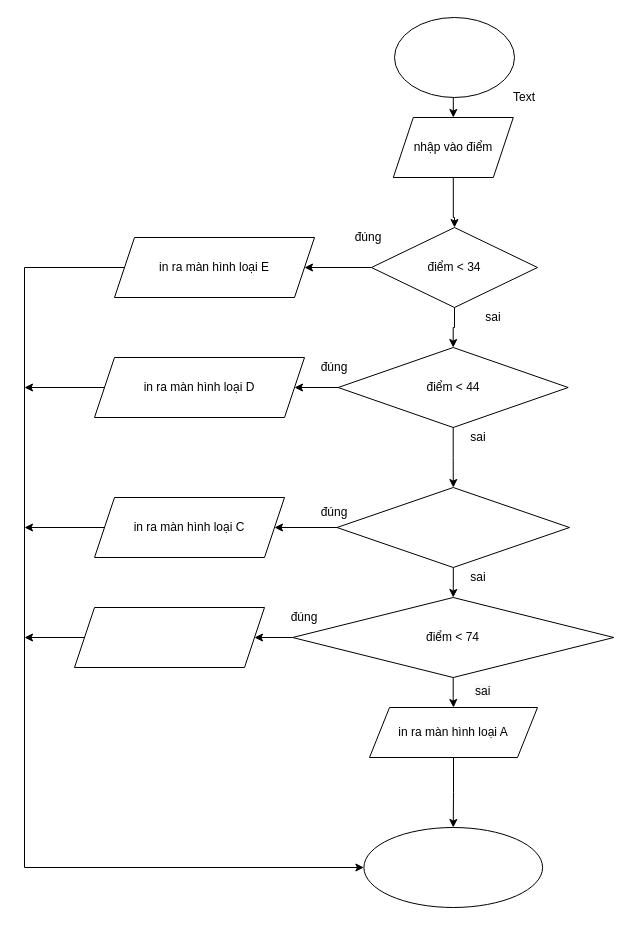
Some shapes in this 632 by 925 pixel diagram are drawn without their labels. Each missing label, with the centre of its shape:
"bắt đầu" belongs at pixel 454 57.
"in ra màn hình lại B" belongs at pixel 169 637.
"kết thúc" belongs at pixel 453 867.
"điểm < 59" belongs at pixel 453 527.
